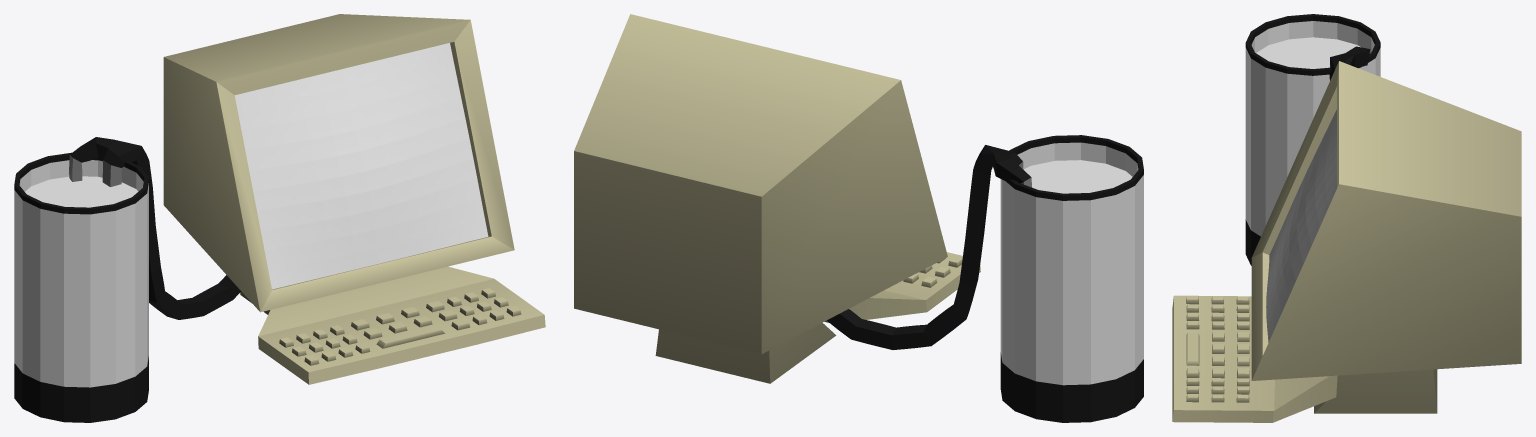
Rendered from computer.glb.
3 views of the same model, side by side, from view 1: azimuth 30°, elevation 25°; view 2: azimuth 150°, elevation 25°; view 3: azimuth 270°, elevation 25° (orthographic). The views are drawn at different scales.
Visible parts, largest first — view 1: computer, screen, glass_cyclinder, cable, water; view 2: computer, glass_cyclinder, cable, water; view 3: computer, glass_cyclinder, screen, water, cable.
Boxes of the visible parts, box(x1,y1,x2,y2) form: computer: box(163, 14, 545, 384); screen: box(234, 43, 488, 289); glass_cyclinder: box(14, 152, 148, 422); cable: box(69, 137, 241, 319); water: box(25, 176, 138, 207); computer: box(574, 14, 980, 383); glass_cyclinder: box(1000, 135, 1143, 422); cable: box(827, 145, 1031, 349); water: box(1023, 160, 1132, 193); computer: box(1172, 61, 1521, 422); glass_cyclinder: box(1245, 14, 1380, 265); screen: box(1266, 109, 1336, 342); water: box(1256, 37, 1360, 68); cable: box(1329, 46, 1370, 80).
Size of the model in its own units: 3.39 by 1.88 by 2.24.
Materials: 4 (1 with a texture image).
